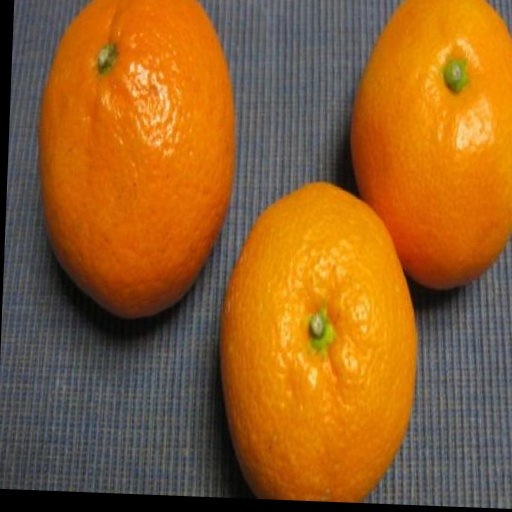fruit: (219, 183, 416, 501)
